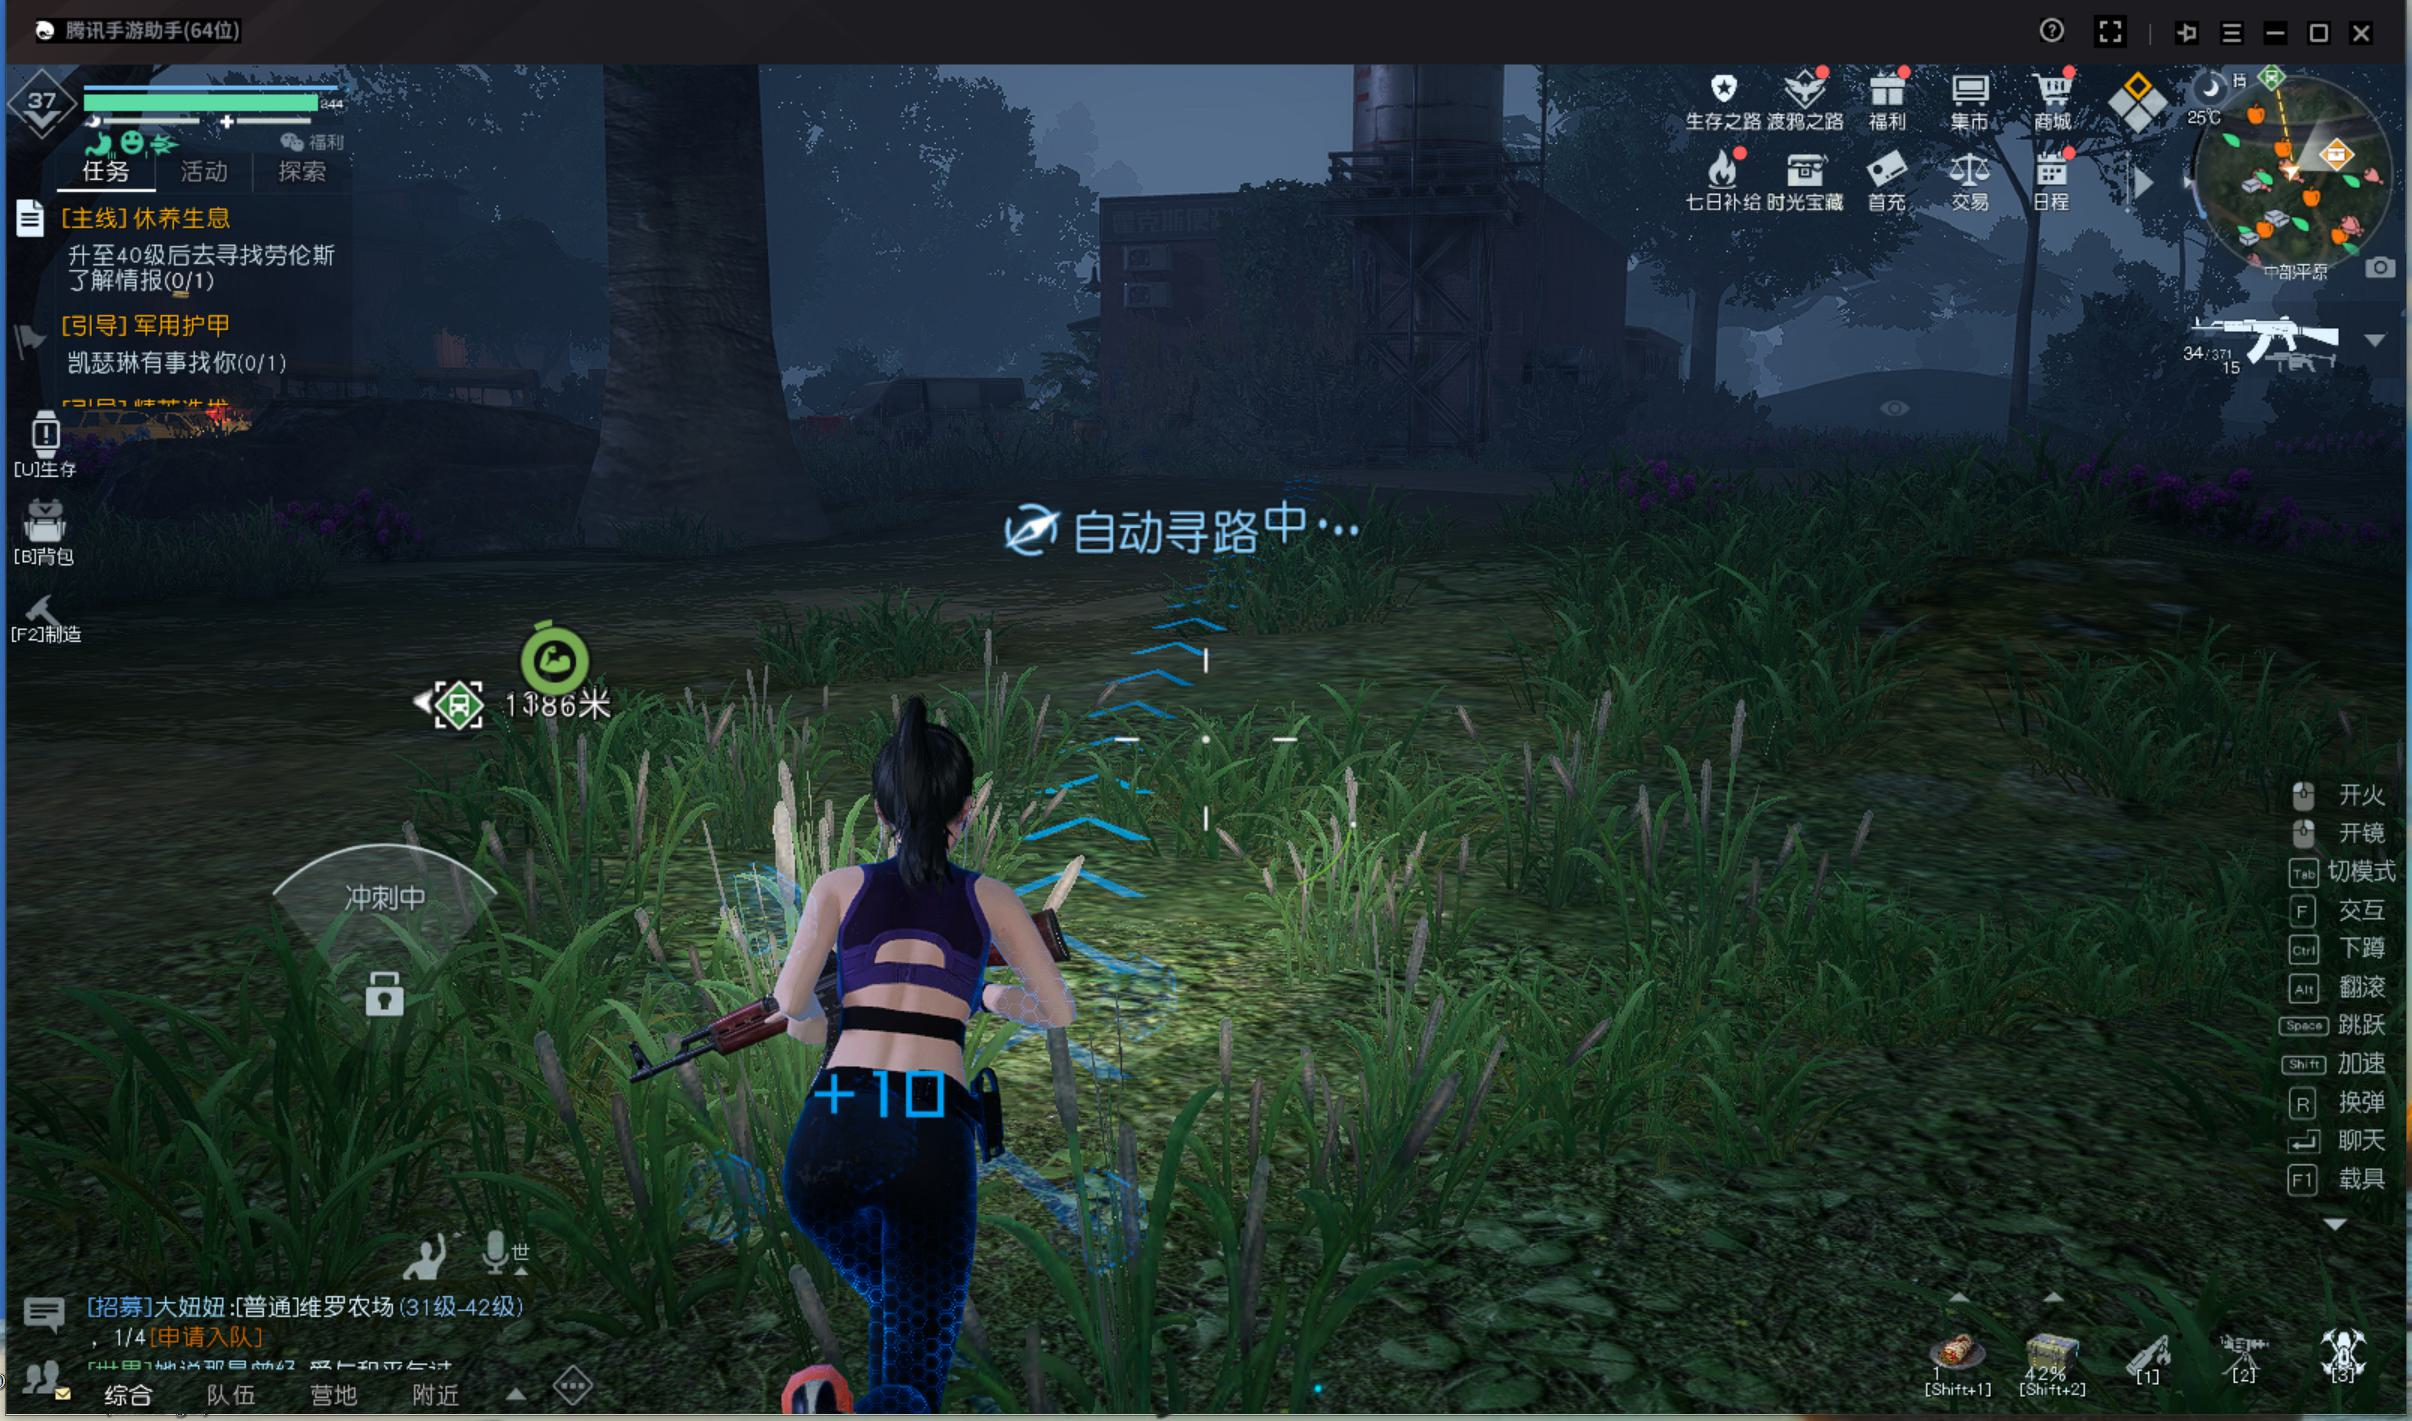tree: (562, 108, 841, 565)
